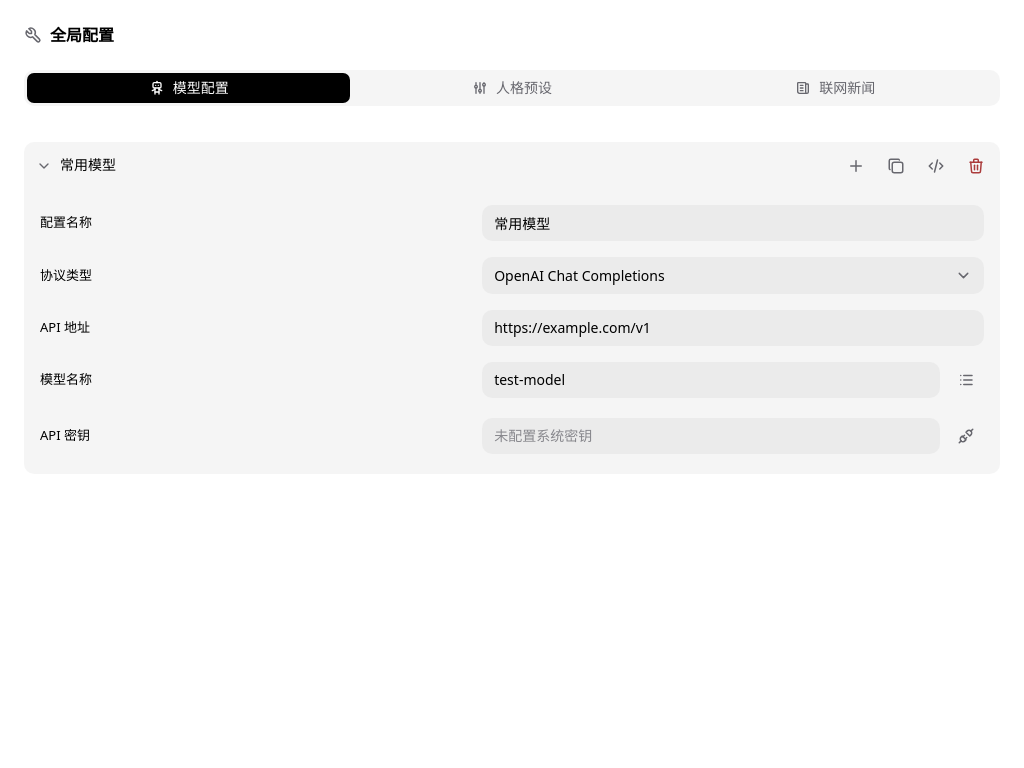
Scenario: 即时应用的全局配置 › API Key 独立保存并清空，不进入新闻配置写请求
Expected: the field named "模型名称" is shown, [482,362,940,398]
Step 1. Click the tab "联网新闻" → point(835, 88), box [674,73,997,103]
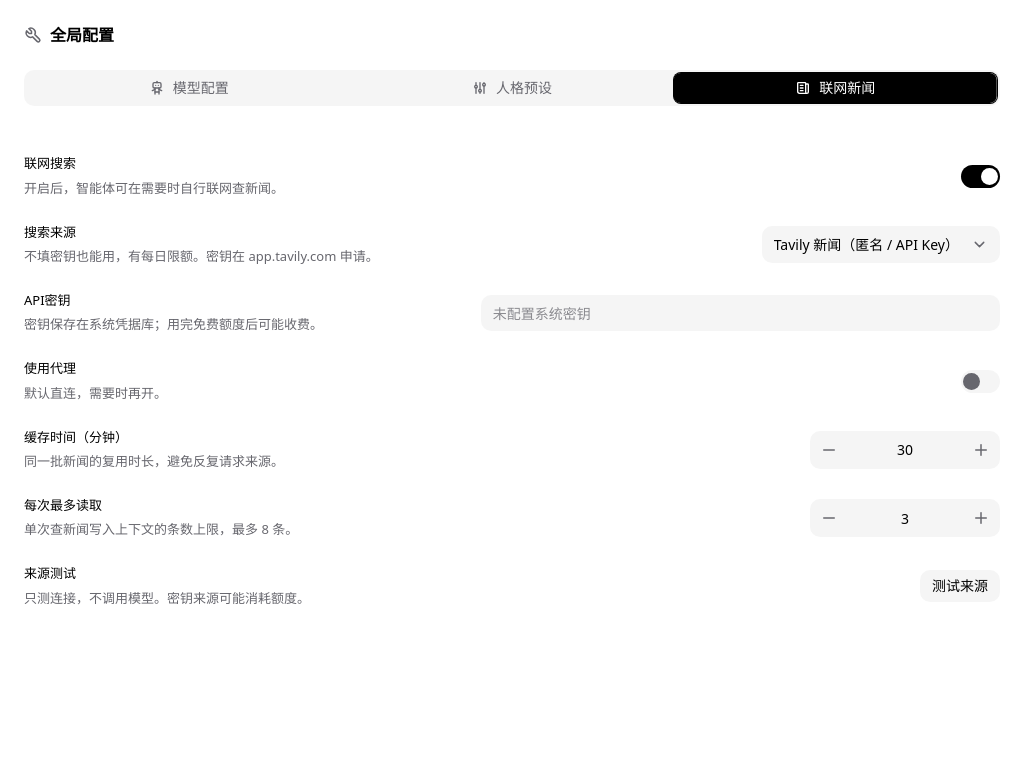
Expected: the password field named "API密钥" is enabled
Step 2. Type "test-news-secret" into the password field named "API密钥" → point(740, 313), box [481,295,1000,331]
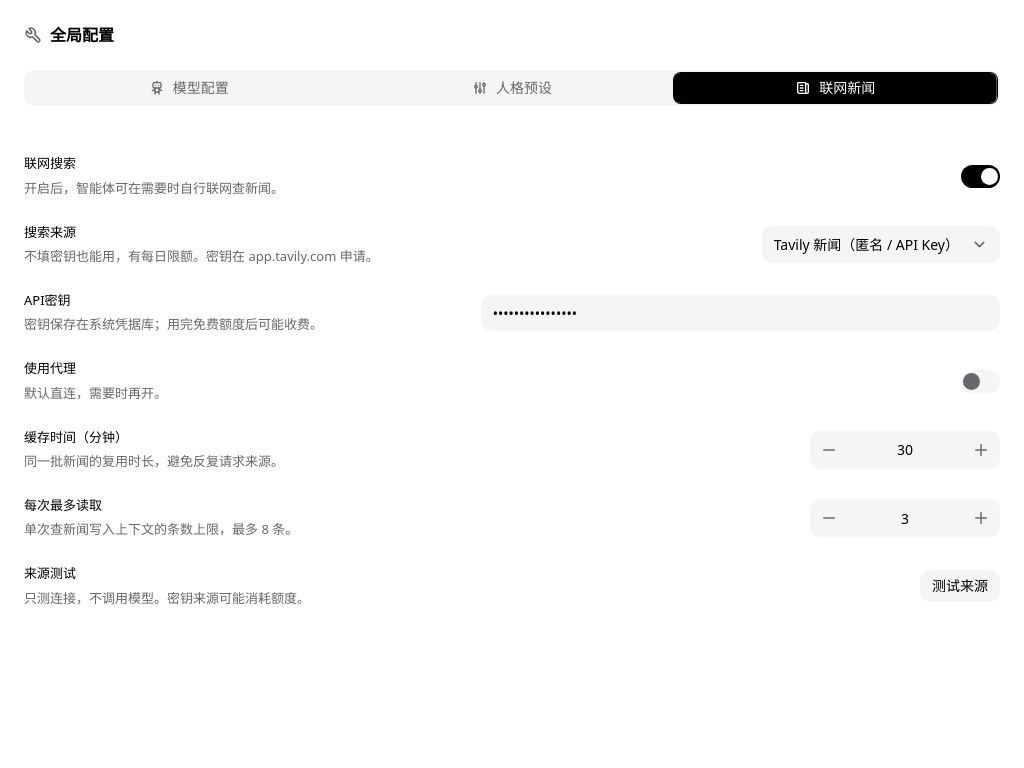
Step 3. Leave the password field named "API密钥", box [481,295,1000,331]
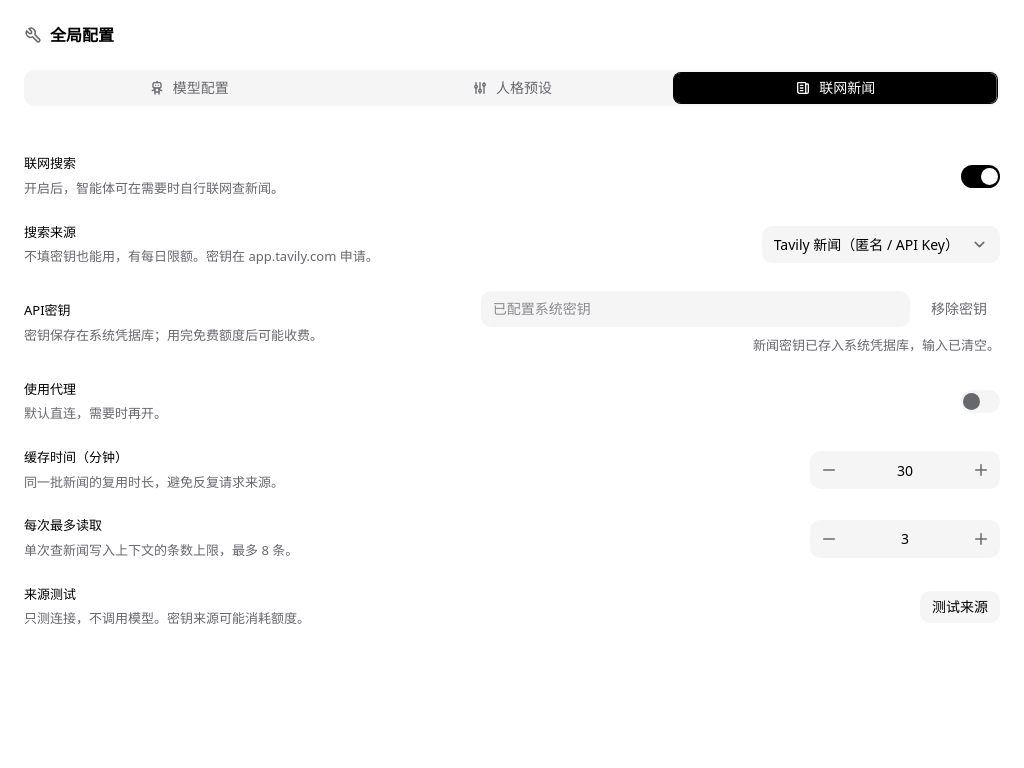
Expected: the text "新闻密钥已存入系统凭据库，输入已清空。" is shown, [753,335,1000,356]
Expected: the password field named "API密钥" is empty, [481,291,910,327]
Step 4. Click the button "移除密钥" → point(959, 309), box [918,293,1000,325]
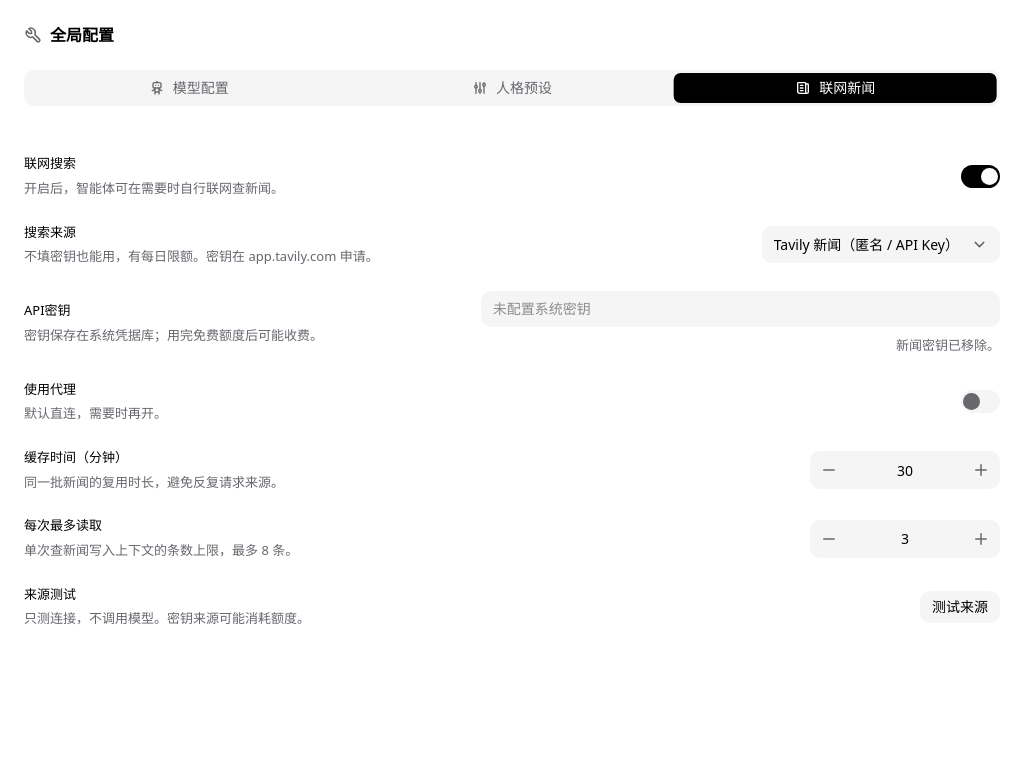
Expected: the text "新闻密钥已移除。" is shown, [896,335,1000,356]
